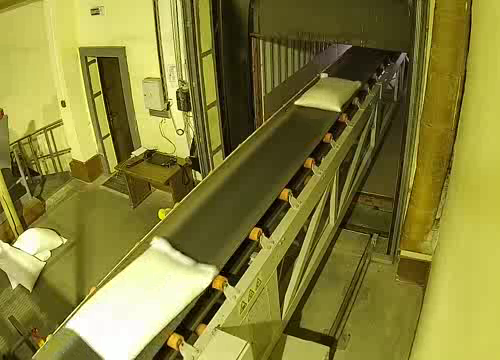bag: (62, 234, 223, 360), (294, 71, 364, 117)
